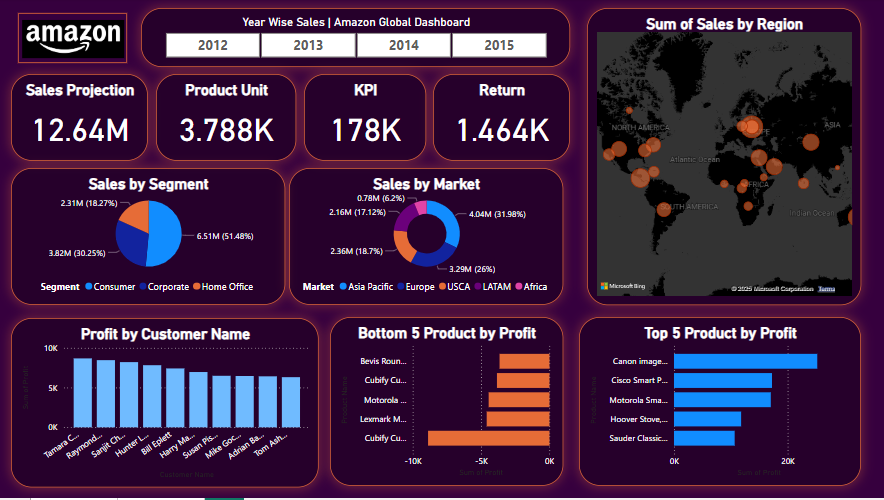

The page's visual inventory and layout, read from the dashboard file:
{"tool":"powerbi","page":{"name":"Sample1","canvas":[1280,720],"ordinal":0},"visuals":[{"type":"slicer","title":"Year Wise Sales | Amazon Global Dashboard","fields":{"Values":["Orders.Year"]},"box":[207.4,14.4,617.8,85],"z":0},{"type":"cardVisual","title":"Sales Projection","fields":{"Data":["Orders.Sales"]},"box":[20.2,109.4,197.3,125.3],"z":1000},{"type":"cardVisual","title":"Product Unit","fields":{"Data":["Orders.Product Name"]},"box":[229,109.4,201.6,125.3],"z":2000},{"type":"cardVisual","title":"KPI","fields":{"Data":["Orders.Quantity"]},"box":[442.1,109.4,175.7,125.3],"z":3000},{"type":"cardVisual","title":"Return","fields":{"Data":["Orders.Ship Date"]},"box":[627.8,109.4,197.3,125.3],"z":4000},{"type":"pieChart","title":"Sales by Segment","fields":{"Category":["Orders.Segment"],"Y":["Orders.Sales"]},"box":[20.2,244.8,394.6,197.3],"z":5000},{"type":"image","box":[33.1,24.5,172.8,85],"z":6000},{"type":"donutChart","title":"Sales by Market","fields":{"Y":["Orders.Sales"],"Category":["Orders.Market"]},"box":[420.5,244.8,394.6,197.3],"z":7000},{"type":"columnChart","title":"Profit by Customer Name","fields":{"Category":["Orders.Customer Name"],"Y":["Orders.Profit"]},"box":[20.2,460.3,443.5,243.6],"z":8000},{"type":"clusteredBarChart","title":"Bottom 5 Product by Profit","fields":{"Y":["Orders.Profit"],"Category":["Orders.Product Name"]},"box":[479.5,459.4,335.5,243.4],"z":9000},{"type":"clusteredBarChart","title":"Top 5 Product by Profit","fields":{"Y":["Orders.Profit"],"Category":["Orders.Product Name"]},"box":[838.1,459.4,406.1,243.4],"z":10000},{"type":"map","fields":{"Category":["Orders.Region"],"Size":["Orders.Sales"]},"box":[849.6,14.4,394.6,427.7],"z":11000}]}

Visuals, with their boxes in screenshot pixels (x1, y1, x2, y2), scaled from the page's 1280x720 canvas onto the 884x500 screenshot:
"Year Wise Sales | Amazon Global Dashboard" slicer: locate(143, 10, 570, 69)
"Sales Projection" cardVisual: locate(14, 76, 150, 163)
"Product Unit" cardVisual: locate(158, 76, 297, 163)
"KPI" cardVisual: locate(305, 76, 427, 163)
"Return" cardVisual: locate(434, 76, 570, 163)
"Sales by Segment" pieChart: locate(14, 170, 286, 307)
image: locate(23, 17, 142, 76)
"Sales by Market" donutChart: locate(290, 170, 563, 307)
"Profit by Customer Name" columnChart: locate(14, 320, 320, 489)
"Bottom 5 Product by Profit" clusteredBarChart: locate(331, 319, 563, 488)
"Top 5 Product by Profit" clusteredBarChart: locate(579, 319, 859, 488)
map - Orders.Region x Orders.Sales: locate(587, 10, 859, 307)
